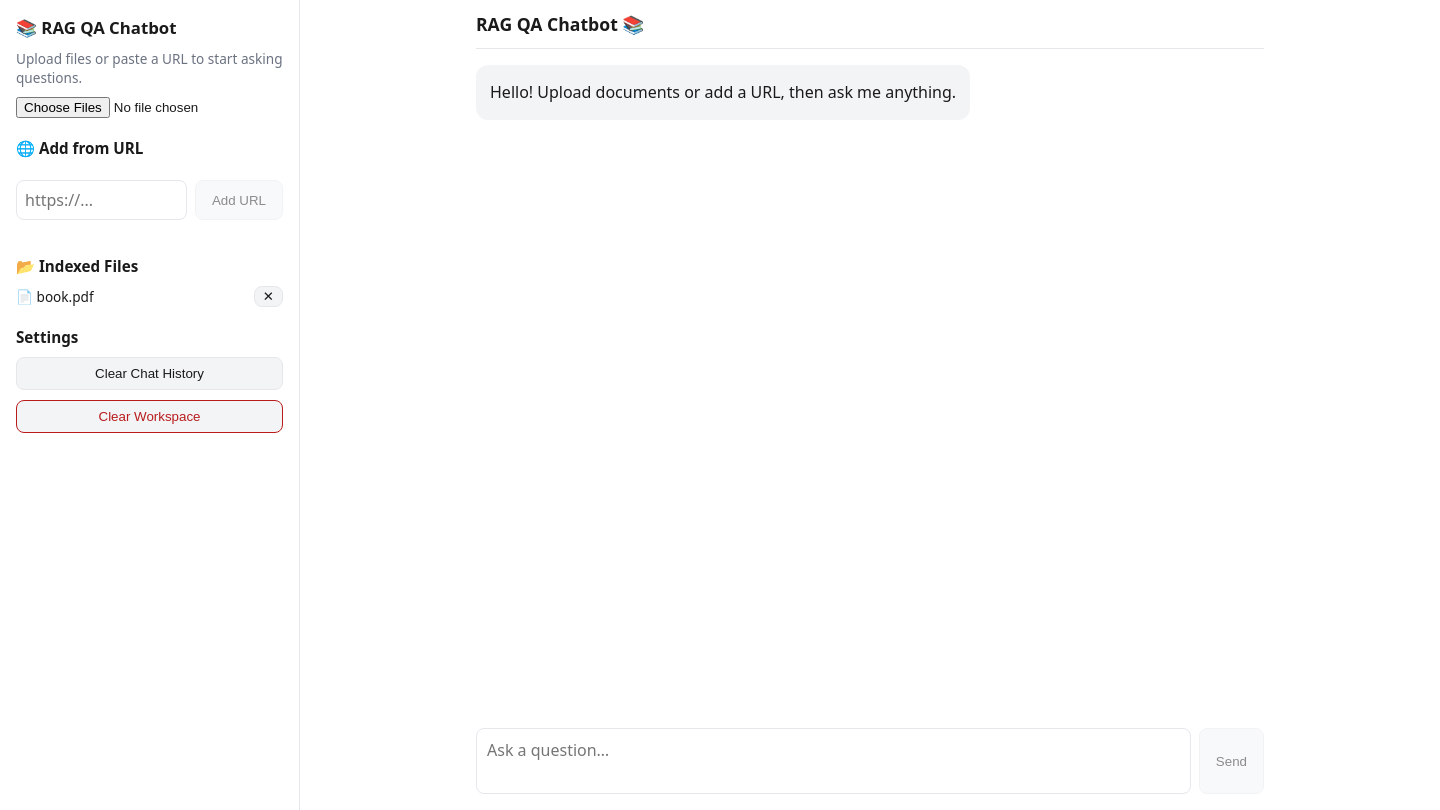
Test: App documents › empties the chat after the workspace is cleared
Type "a question" into the text box with placeholder "Ask a question…" at (833, 761), box [476,728,1191,794]
Then press Enter
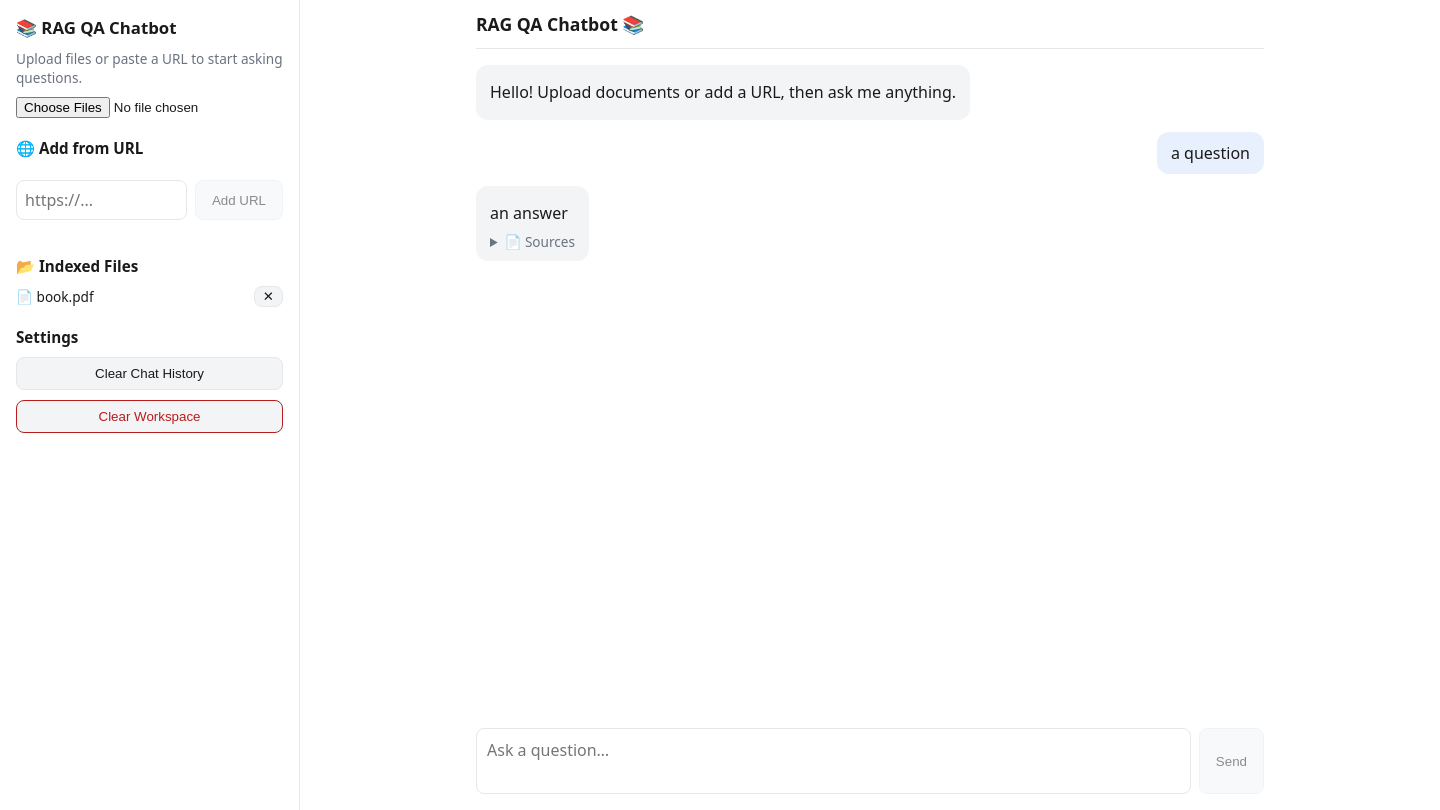
Check: the text "an answer" is shown, box [490,202,575,224]
Click the button "Clear Workspace" at (150, 416), box [16,400,283,433]
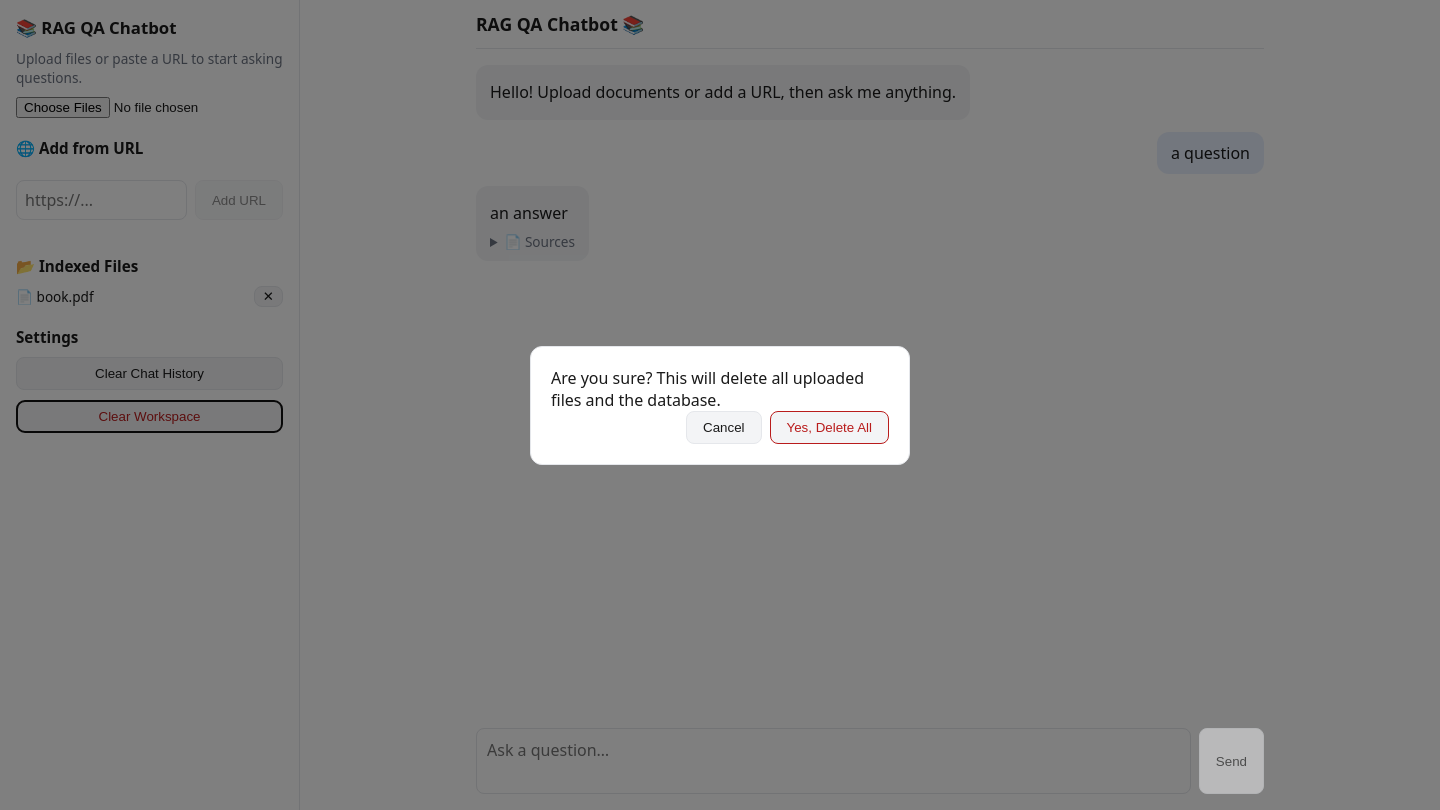
Click the button "Yes, Delete All" at (829, 427), box [770,410,889,444]
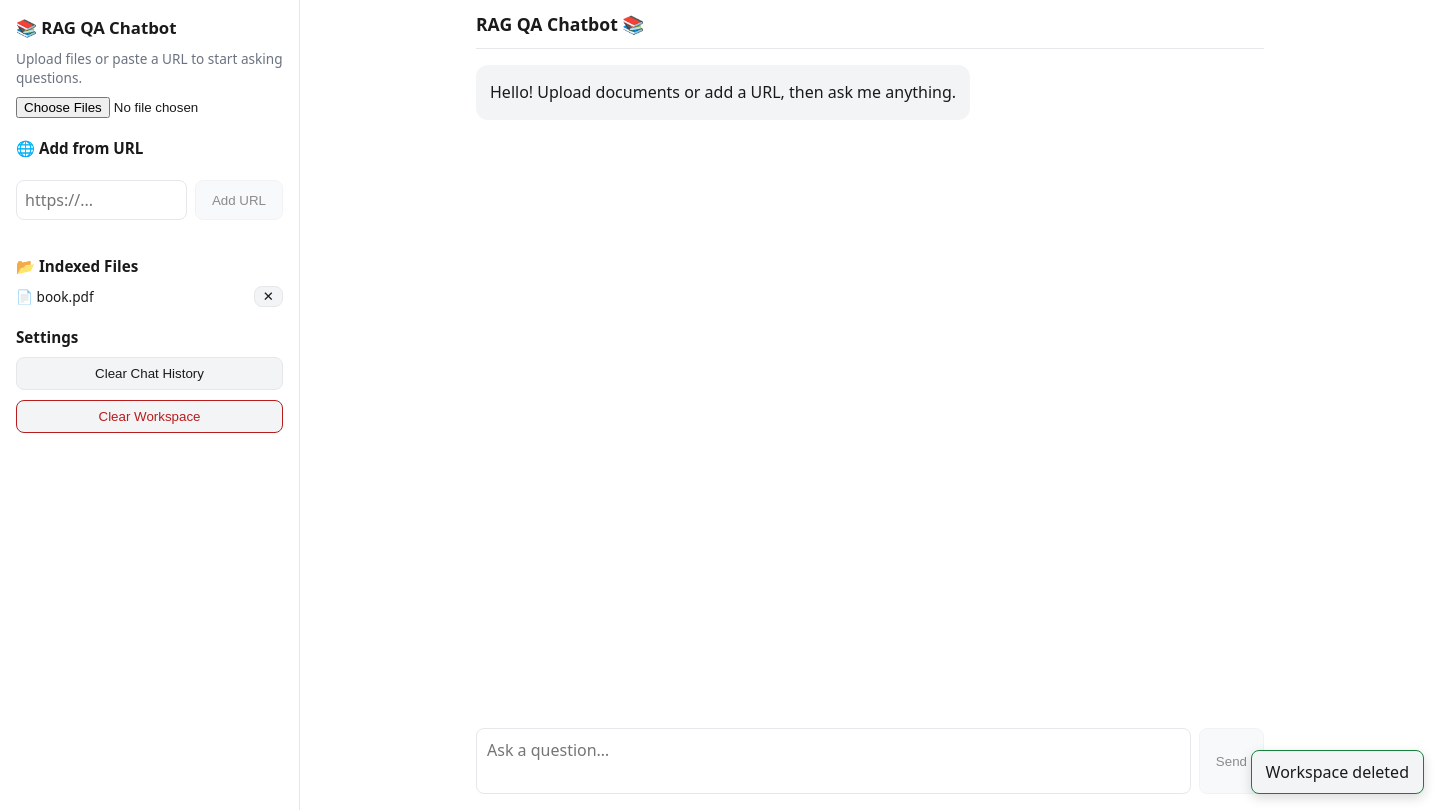
Check: the text "Workspace deleted" is shown, box [1251,750,1424,794]
